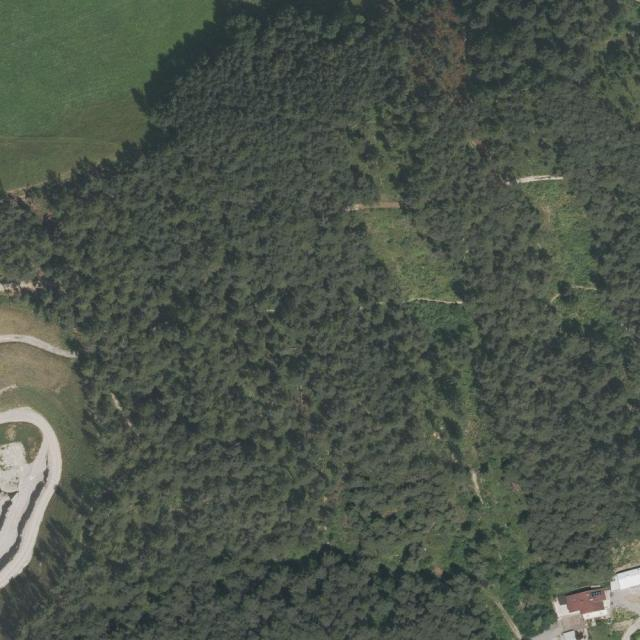building: (551, 584, 616, 640), (607, 565, 640, 592)
greenland: (0, 0, 213, 189), (0, 330, 99, 494), (0, 411, 48, 463), (43, 478, 83, 539), (588, 619, 611, 640)
unmetalled_road: (482, 584, 525, 640), (530, 622, 560, 639)
